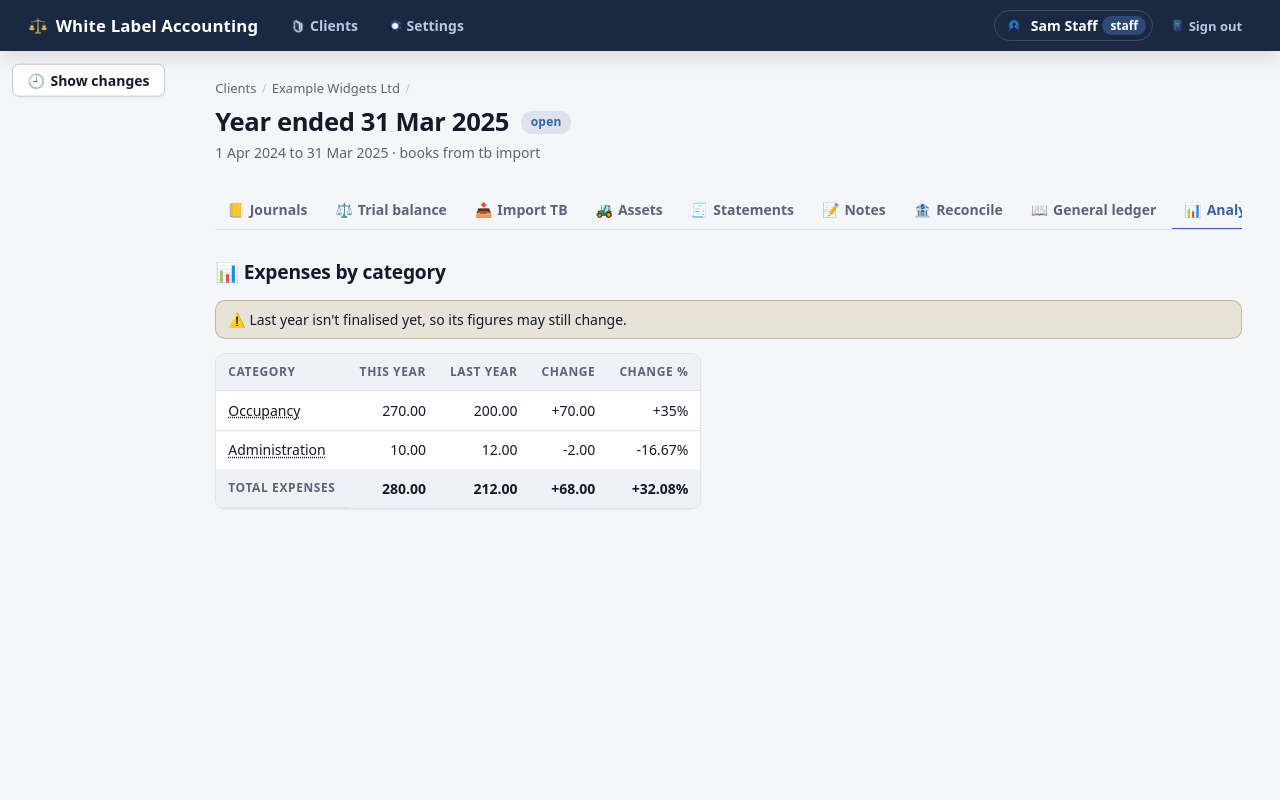
Test case: expense analysis › names accounts without codes when the server leaves them out
Click the button "Occupancy": {"x": 264, "y": 410} 228,400 -> 300,421
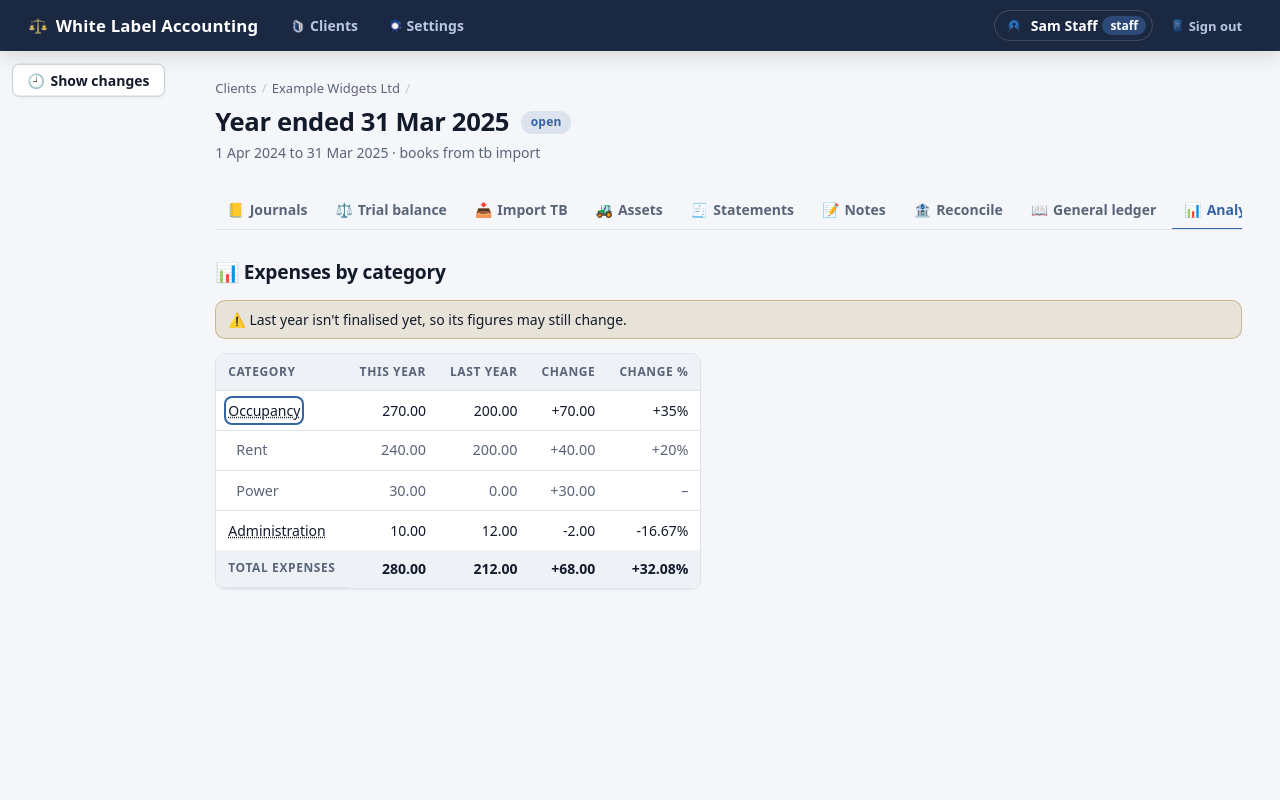
Expected: the text "Rent" is shown, 216,431 -> 348,471
